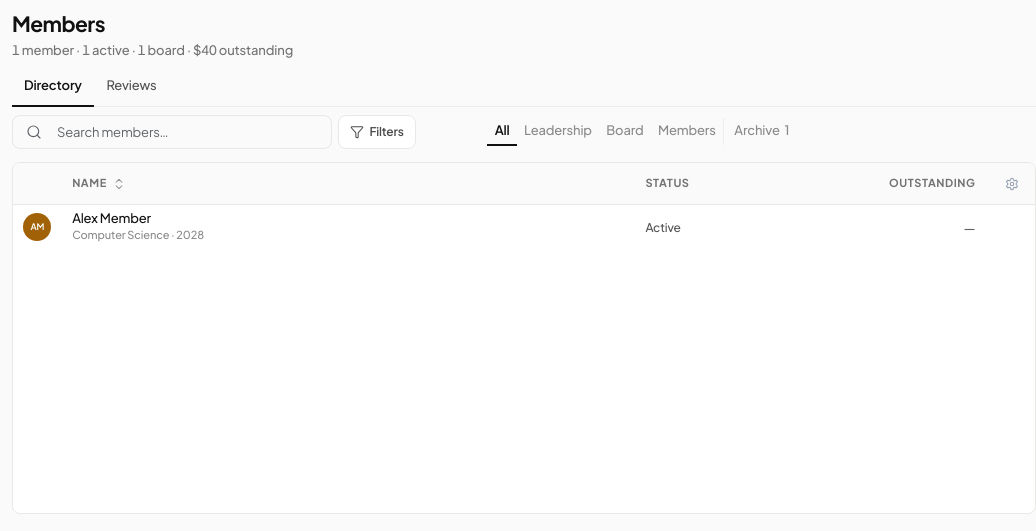
Scenario: MembersPage › shows rejected members only in Archive
The image size is (1036, 531).
Expected: the link "Alex Member" is shown, [72,210,151,226]
Expected: the text "Rejected Person" is not shown
What coordinates should you click on to do the following:
click the button "Archive 1"
I would click on:
 (760, 132)
Its box is [723,118,796,146].
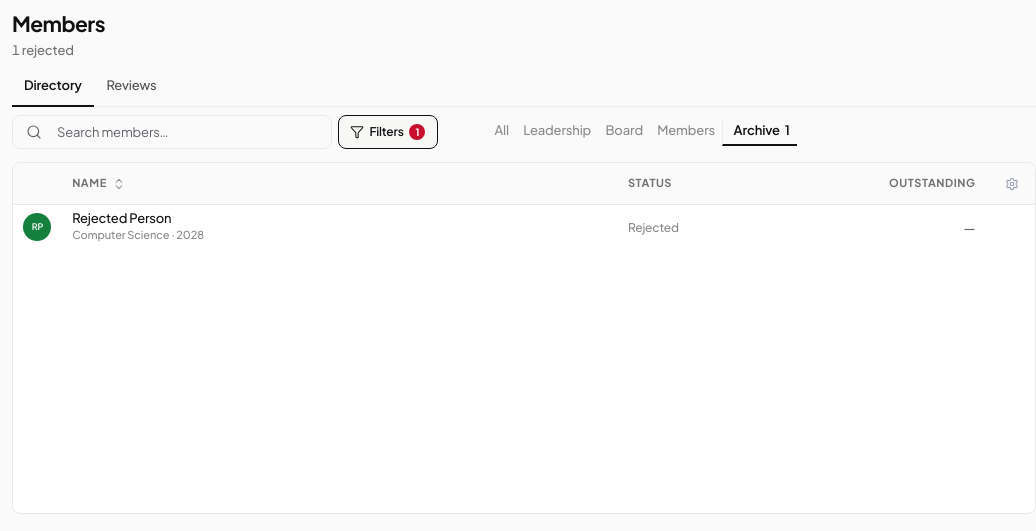
Now the link "Rejected Person" is shown, box [72,210,171,226]
Now the link "Alex Member" is gone
Now the text named "Members summary" reads "1 rejected", box [12,42,74,58]
